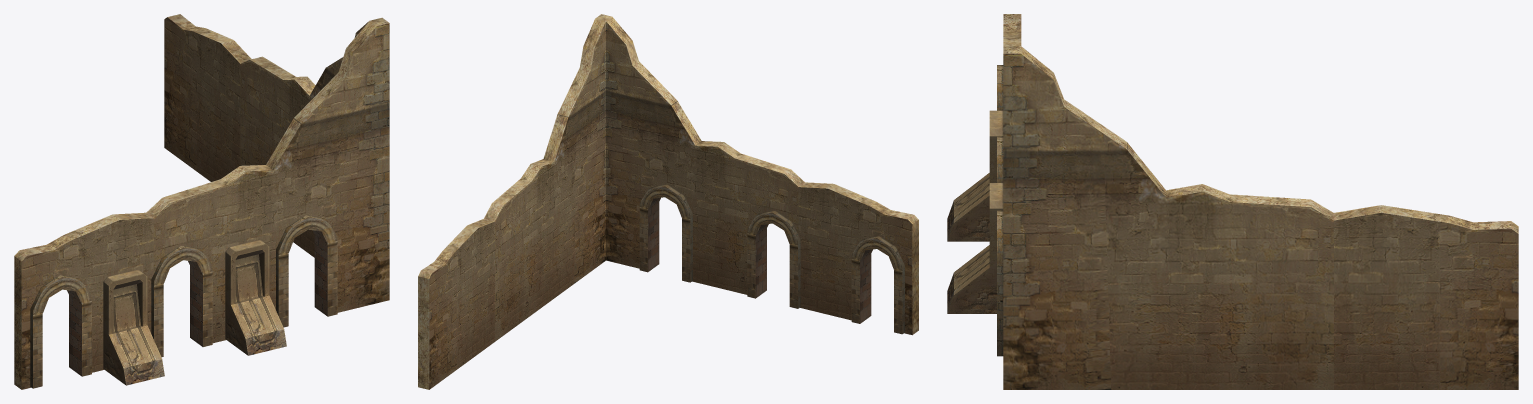
File: yw_huxiaoshamo_zhujian04.FBX
3 views of the same model, side by side, from view 1: azimuth 30°, elevation 25°; view 2: azimuth 150°, elevation 25°; view 3: azimuth 270°, elevation 25° (orthographic). The views are drawn at different scales.
Parts seen in each view (by area): view 1: yw_huxiaoshamo_zhujian04; view 2: yw_huxiaoshamo_zhujian04; view 3: yw_huxiaoshamo_zhujian04.
Part boxes in pixels (left/top/right/bottom): yw_huxiaoshamo_zhujian04: left=14, top=14, right=389, bottom=389; yw_huxiaoshamo_zhujian04: left=418, top=14, right=918, bottom=389; yw_huxiaoshamo_zhujian04: left=947, top=14, right=1518, bottom=389.
Bounding box in the file's own units: 1083 × 779 × 1200.
